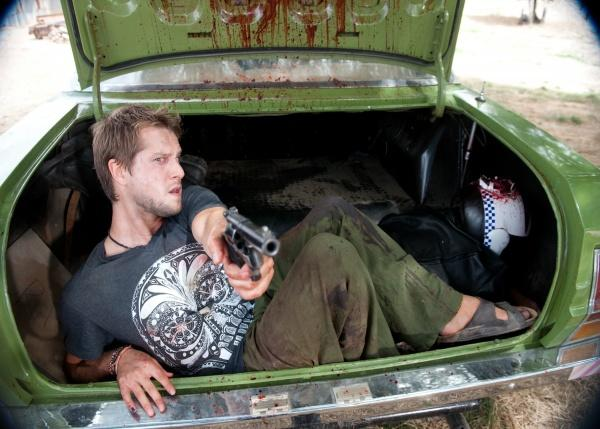Gun: (223, 207, 280, 281)
